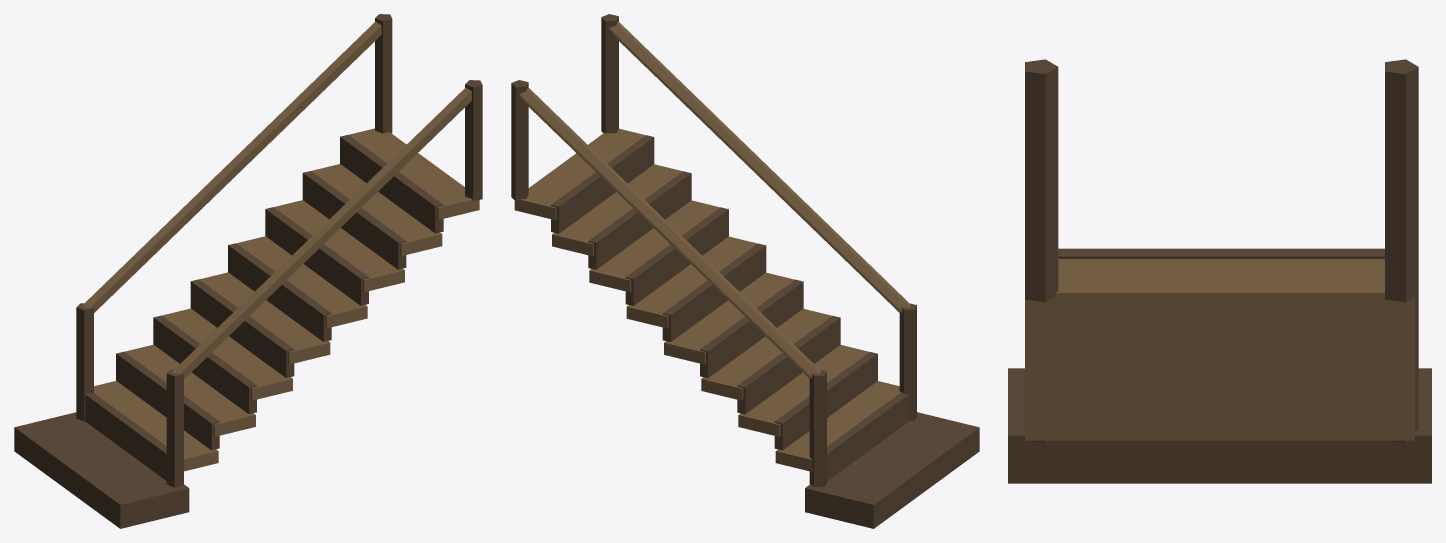
The model's file is K_StairFlight.glb.
The picture shows the model from 3 angles, left to right: view 1: azimuth 30°, elevation 25°; view 2: azimuth 150°, elevation 25°; view 3: azimuth 270°, elevation 25°; orthographic projection. The views are drawn at different scales.
Parts seen in each view (by area): view 1: K_StairFlight; view 2: K_StairFlight; view 3: K_StairFlight.
Part boxes in pixels (left/top/right/bottom): K_StairFlight: left=14, top=14, right=482, bottom=528; K_StairFlight: left=511, top=14, right=979, bottom=528; K_StairFlight: left=1008, top=59, right=1431, bottom=483.
Bounding box in the file's own units: 3.22 × 2.92 × 1.6.
